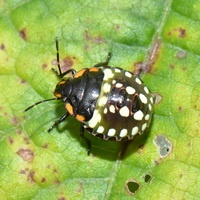insect: (24, 36, 161, 159)
